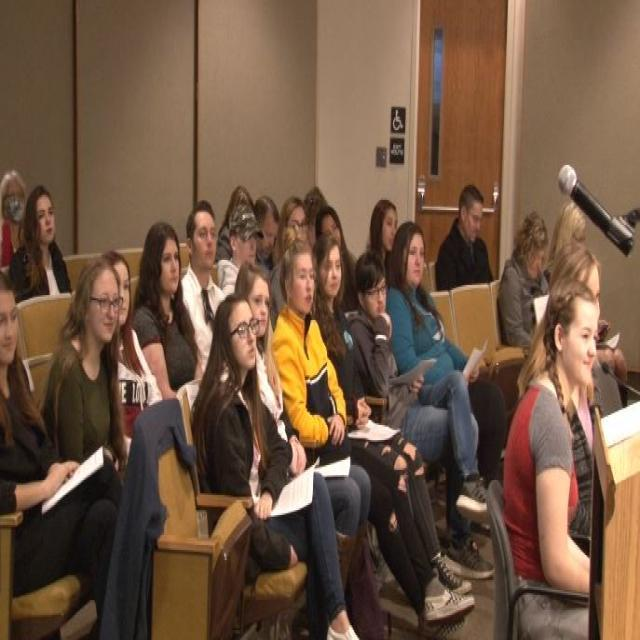Looking away: (460, 195, 484, 245), (524, 234, 548, 284)
Looking forward: (560, 296, 600, 390), (234, 265, 280, 335), (225, 301, 258, 371), (89, 270, 119, 344), (2, 281, 24, 371), (401, 232, 429, 290), (290, 255, 316, 313), (193, 212, 216, 270), (320, 245, 343, 298), (160, 236, 180, 295), (363, 273, 388, 320), (34, 192, 56, 245), (375, 196, 396, 250)
